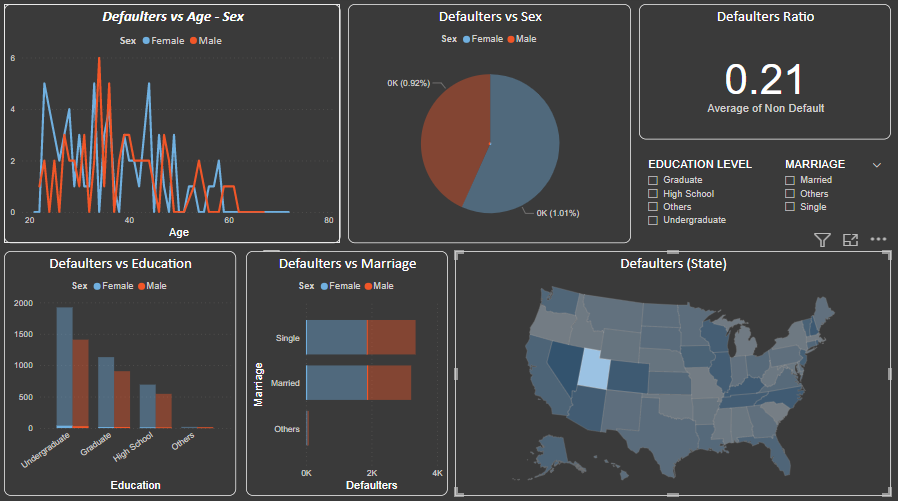

What the dashboard file says about the page in this screenshot:
{"tool":"powerbi","page":{"name":"Defaulters","canvas":[1280,720],"ordinal":0},"visuals":[{"type":"lineChart","title":"Defaulters vs Age - Sex","fields":{"Category":["Data.AGE"],"Y":["Sum(Data.Default)"],"Series":["Data.SEX"]},"box":[11.4,10,476.7,338.7],"z":0},{"type":"clusteredColumnChart","title":"Defaulters vs Education","fields":{"Y":["Sum(Data.Default)"],"Category":["Data.EDUCATION LEVEL"],"Series":["Data.SEX"]},"box":[11.4,360,328.7,347.2],"z":1000},{"type":"pieChart","title":"Defaulters vs Sex","fields":{"Y":["Sum(Data.Default)"],"Series":["Data.SEX"]},"box":[499.4,10,401.3,338.7],"z":2000},{"type":"shapeMap","title":"Defaulters (State)","fields":{"Category":["Data.State"],"Value":["Sum(Data.Default)"]},"box":[650.3,360,617.5,347.2],"z":3000},{"type":"card","title":"Defaulters Ratio","fields":{"Values":["Avg(Data.Default)"]},"box":[910.7,10,357.2,192.1],"z":4000},{"type":"slicer","fields":{"Values":["Data.EDUCATION LEVEL"]},"box":[910.7,223.4,231.9,111],"z":5000},{"type":"slicer","fields":{"Values":["Data.MARRIAGE"]},"box":[1105.6,223.4,162.2,111],"z":6000},{"type":"barChart","title":"Defaulters vs Marriage","fields":{"Category":["Data.MARRIAGE"],"Y":["Sum(Data.Default)"],"Series":["Data.SEX"]},"box":[354.3,360,286,347.2],"z":7000}]}

Visuals, with their boxes in screenshot pixels (x1, y1, x2, y2), scaled from the page's 1280x720 canvas onto the 898x501 screenshot:
"Defaulters vs Age - Sex" lineChart: [8,7,342,243]
"Defaulters vs Education" clusteredColumnChart: [8,250,239,492]
"Defaulters vs Sex" pieChart: [350,7,632,243]
"Defaulters (State)" shapeMap: [456,250,889,492]
"Defaulters Ratio" card: [639,7,890,141]
slicer - Data.EDUCATION LEVEL: [639,155,802,233]
slicer - Data.MARRIAGE: [776,155,889,233]
"Defaulters vs Marriage" barChart: [249,250,449,492]
